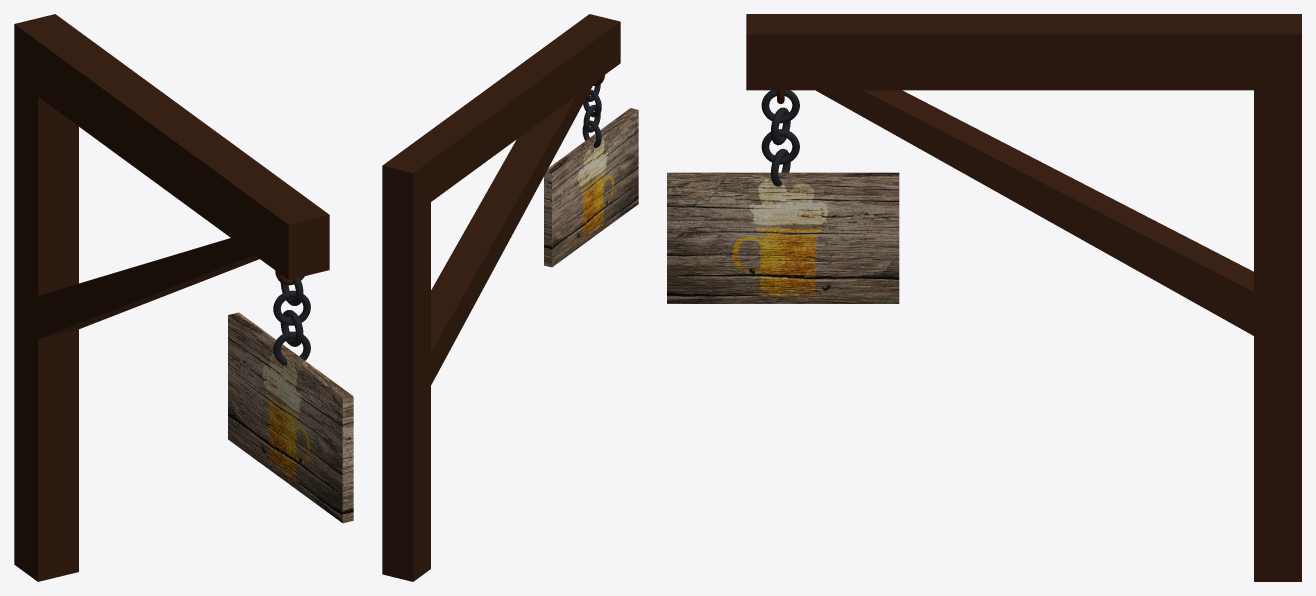
Rendered from panneauauberge.fbx.
The picture shows the model from 3 angles, left to right: view 1: azimuth 30°, elevation 25°; view 2: azimuth 150°, elevation 25°; view 3: azimuth 270°, elevation 25°; orthographic projection. The views are drawn at different scales.
Parts seen in each view (by area): view 1: Cube, Plane, Torus.001, Torus.002, Torus.003; view 2: Cube, Plane; view 3: Cube, Plane.
Part boxes in pixels (x1,y1,x2,y2): Cube: (14,14,329,581); Plane: (228,312,353,523); Torus.001: (273,290,310,325); Torus.002: (273,331,310,365); Torus.003: (280,310,303,346); Cube: (382,14,620,581); Plane: (544,108,638,267); Cube: (746,14,1301,581); Plane: (667,172,899,303).
Size of the model in its own units: 68.98 by 869 by 913.
